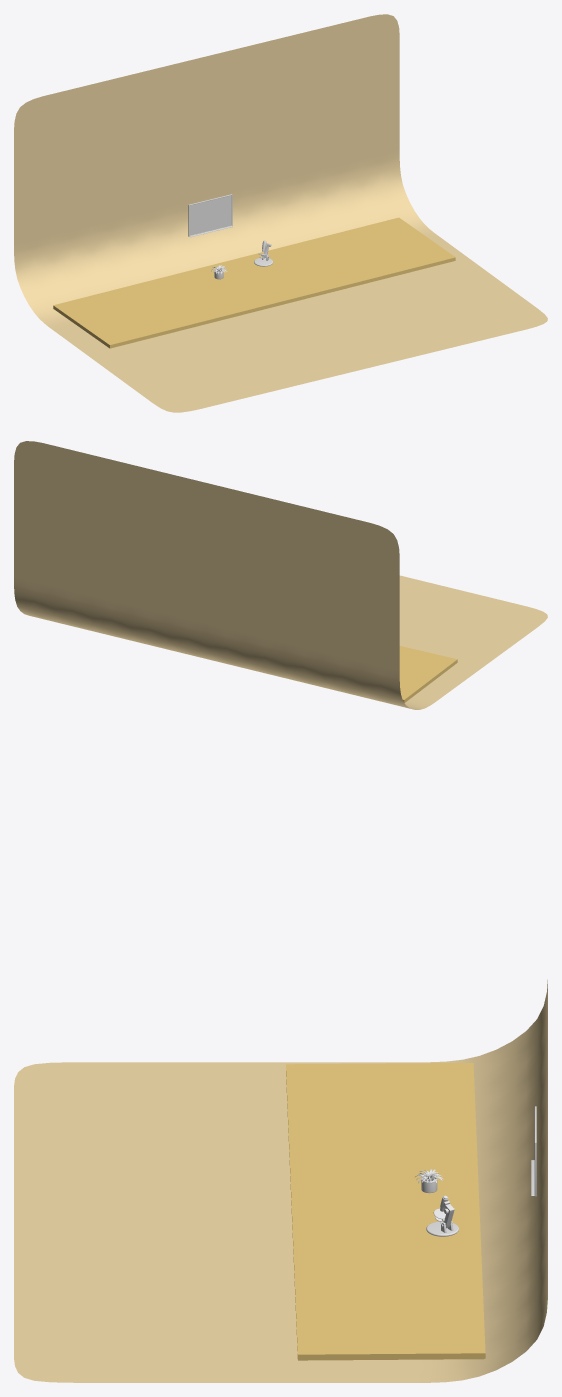
File: decor_flo_v-2.gltf
The picture shows the model from 3 angles, top to bottom: view 1: azimuth 30°, elevation 25°; view 2: azimuth 150°, elevation 25°; view 3: azimuth 270°, elevation 25°; orthographic projection. The views are drawn at different scales.
Parts seen in each view (by area): view 1: Plane, table, sticker; view 2: Plane, table; view 3: Plane, table.
Part boxes in pixels (box(x1,y1,x2,y2)): Plane: box(14, 14, 547, 412); table: box(53, 217, 455, 348); sticker: box(189, 195, 231, 235); Plane: box(14, 441, 547, 709); table: box(399, 646, 457, 702); Plane: box(14, 980, 547, 1382); table: box(286, 1063, 485, 1360).
Bounding box in the file's own units: 809 × 397 × 569.
